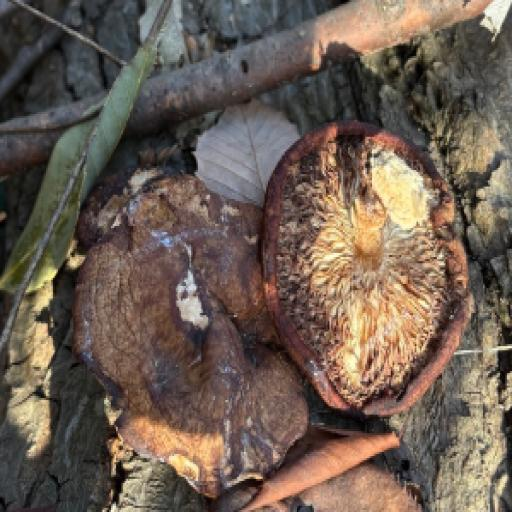Shiitake Mushroom: (37, 74, 512, 512)
